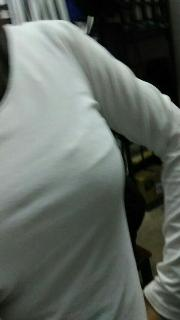long sleeve top: (0, 19, 180, 320)
